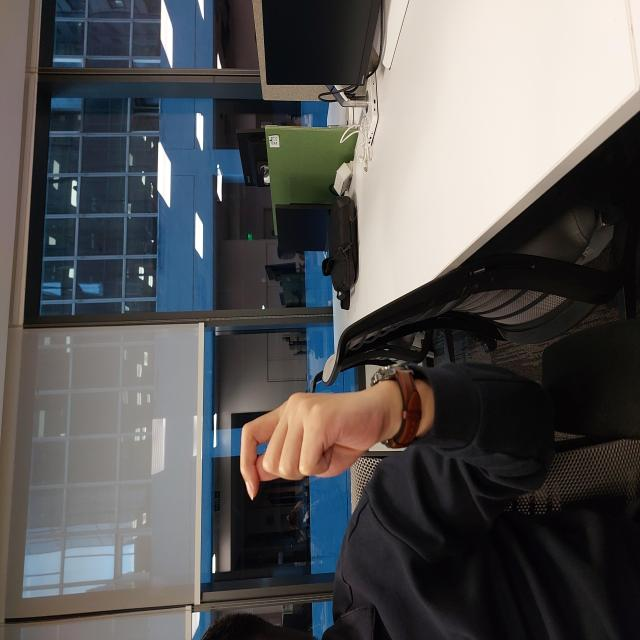T: (141, 240, 250, 383)
